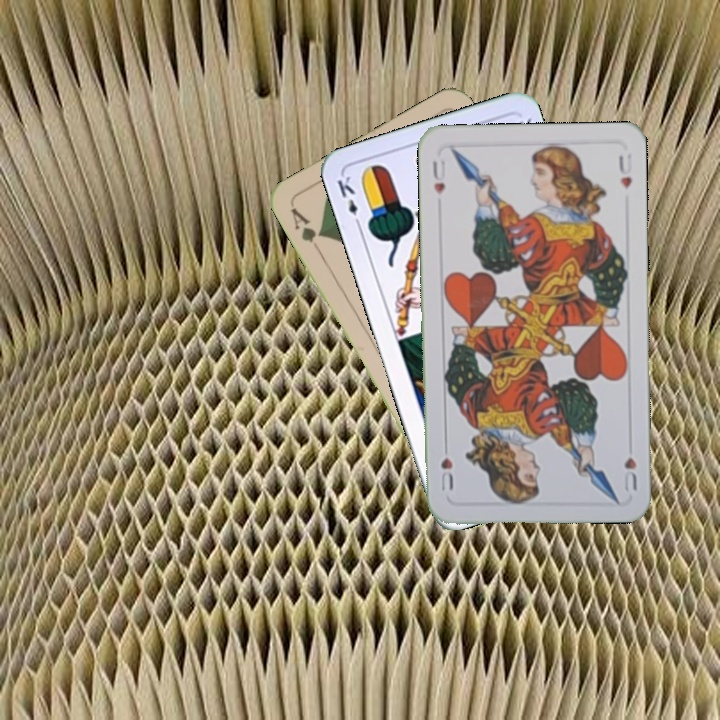EK: (333, 171, 364, 231)
GA: (286, 203, 326, 255)
HU: (618, 453, 639, 494), (428, 156, 448, 197)
